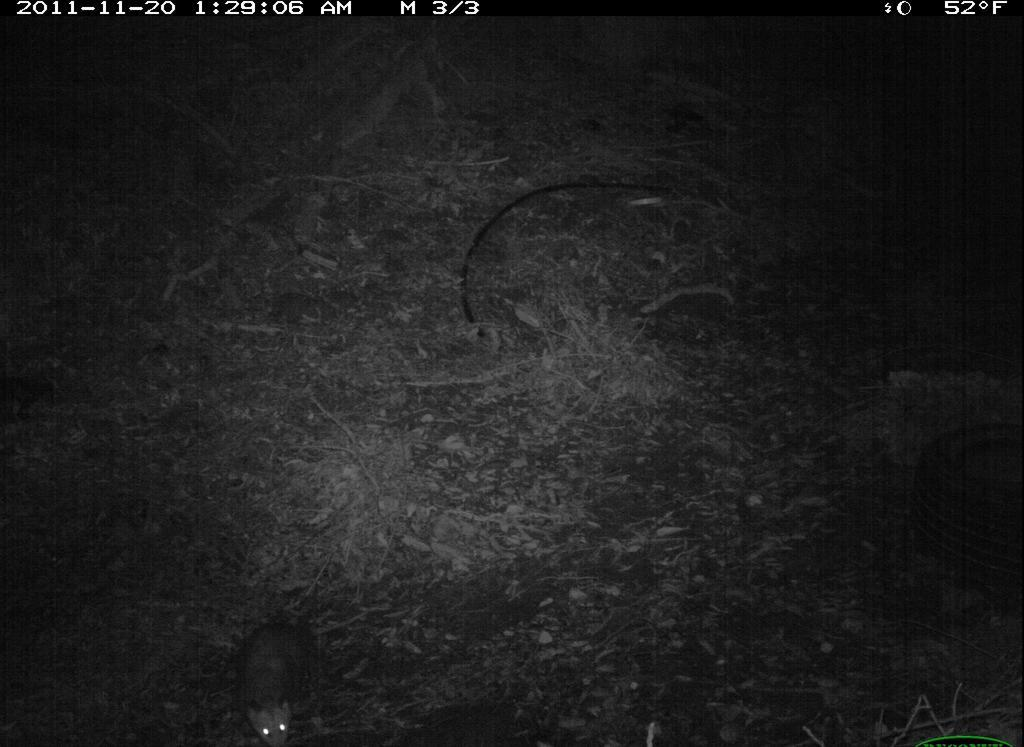opossum: (226, 597, 399, 747)
